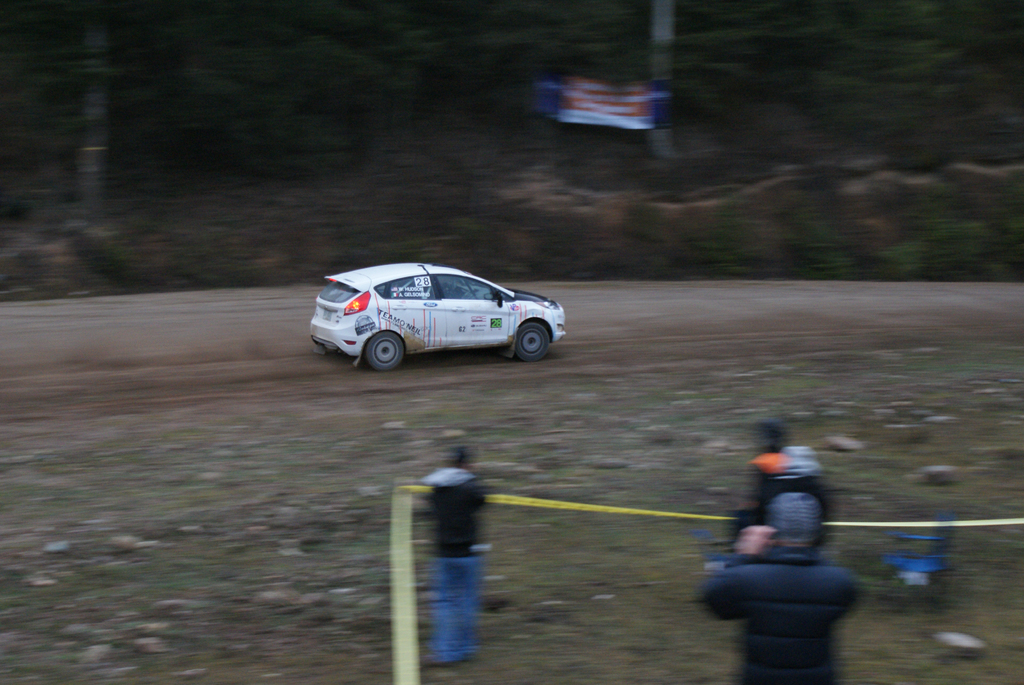mobil: (317, 259, 575, 364)
